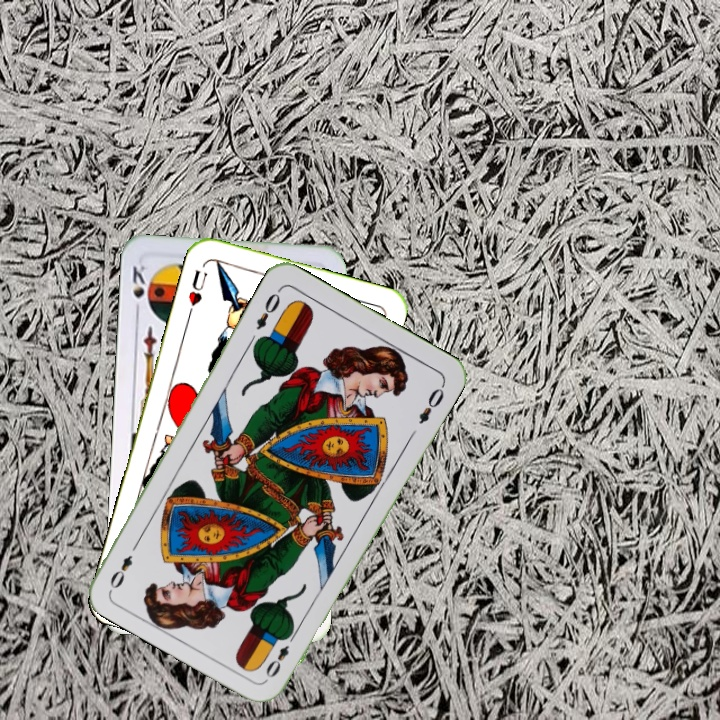EO: (261, 627, 299, 681), (252, 285, 284, 333)
HU: (184, 265, 210, 319)
SK: (128, 261, 151, 318)
